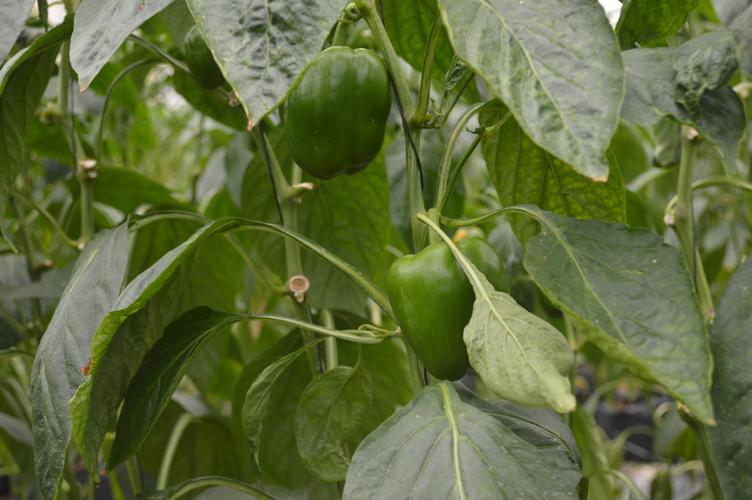BellPepper: (388, 240, 501, 379), (283, 42, 384, 180)
